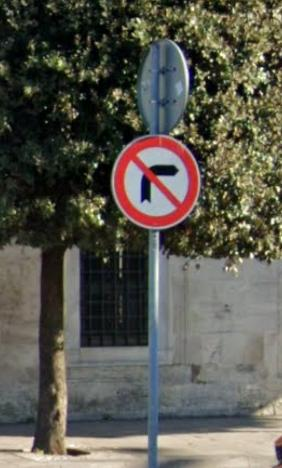rightturnsareforbidden: (112, 133, 200, 229)
